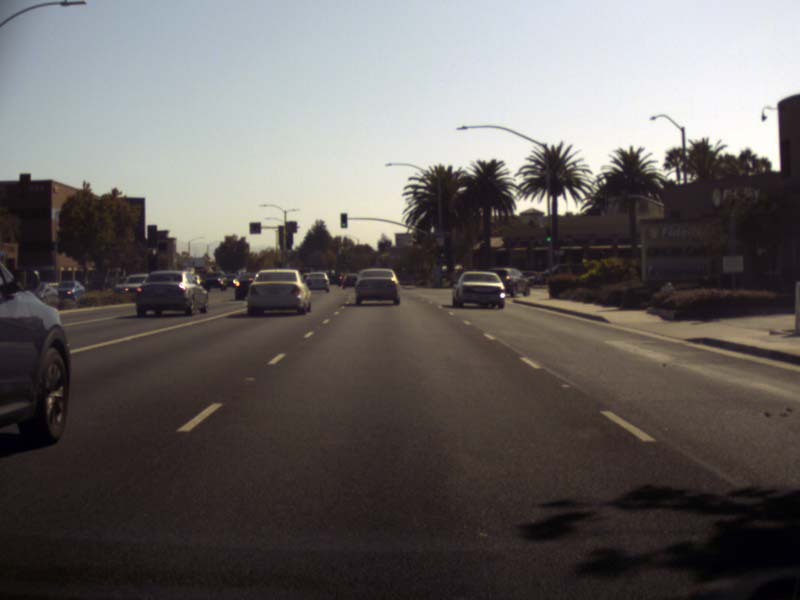Green: (544, 225, 553, 243), (339, 212, 348, 228)
